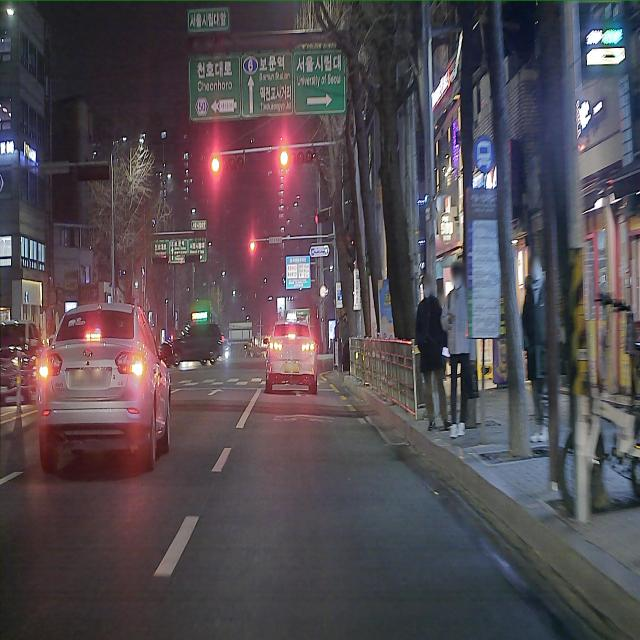Red Light: (279, 148, 289, 166), (210, 156, 220, 173)
